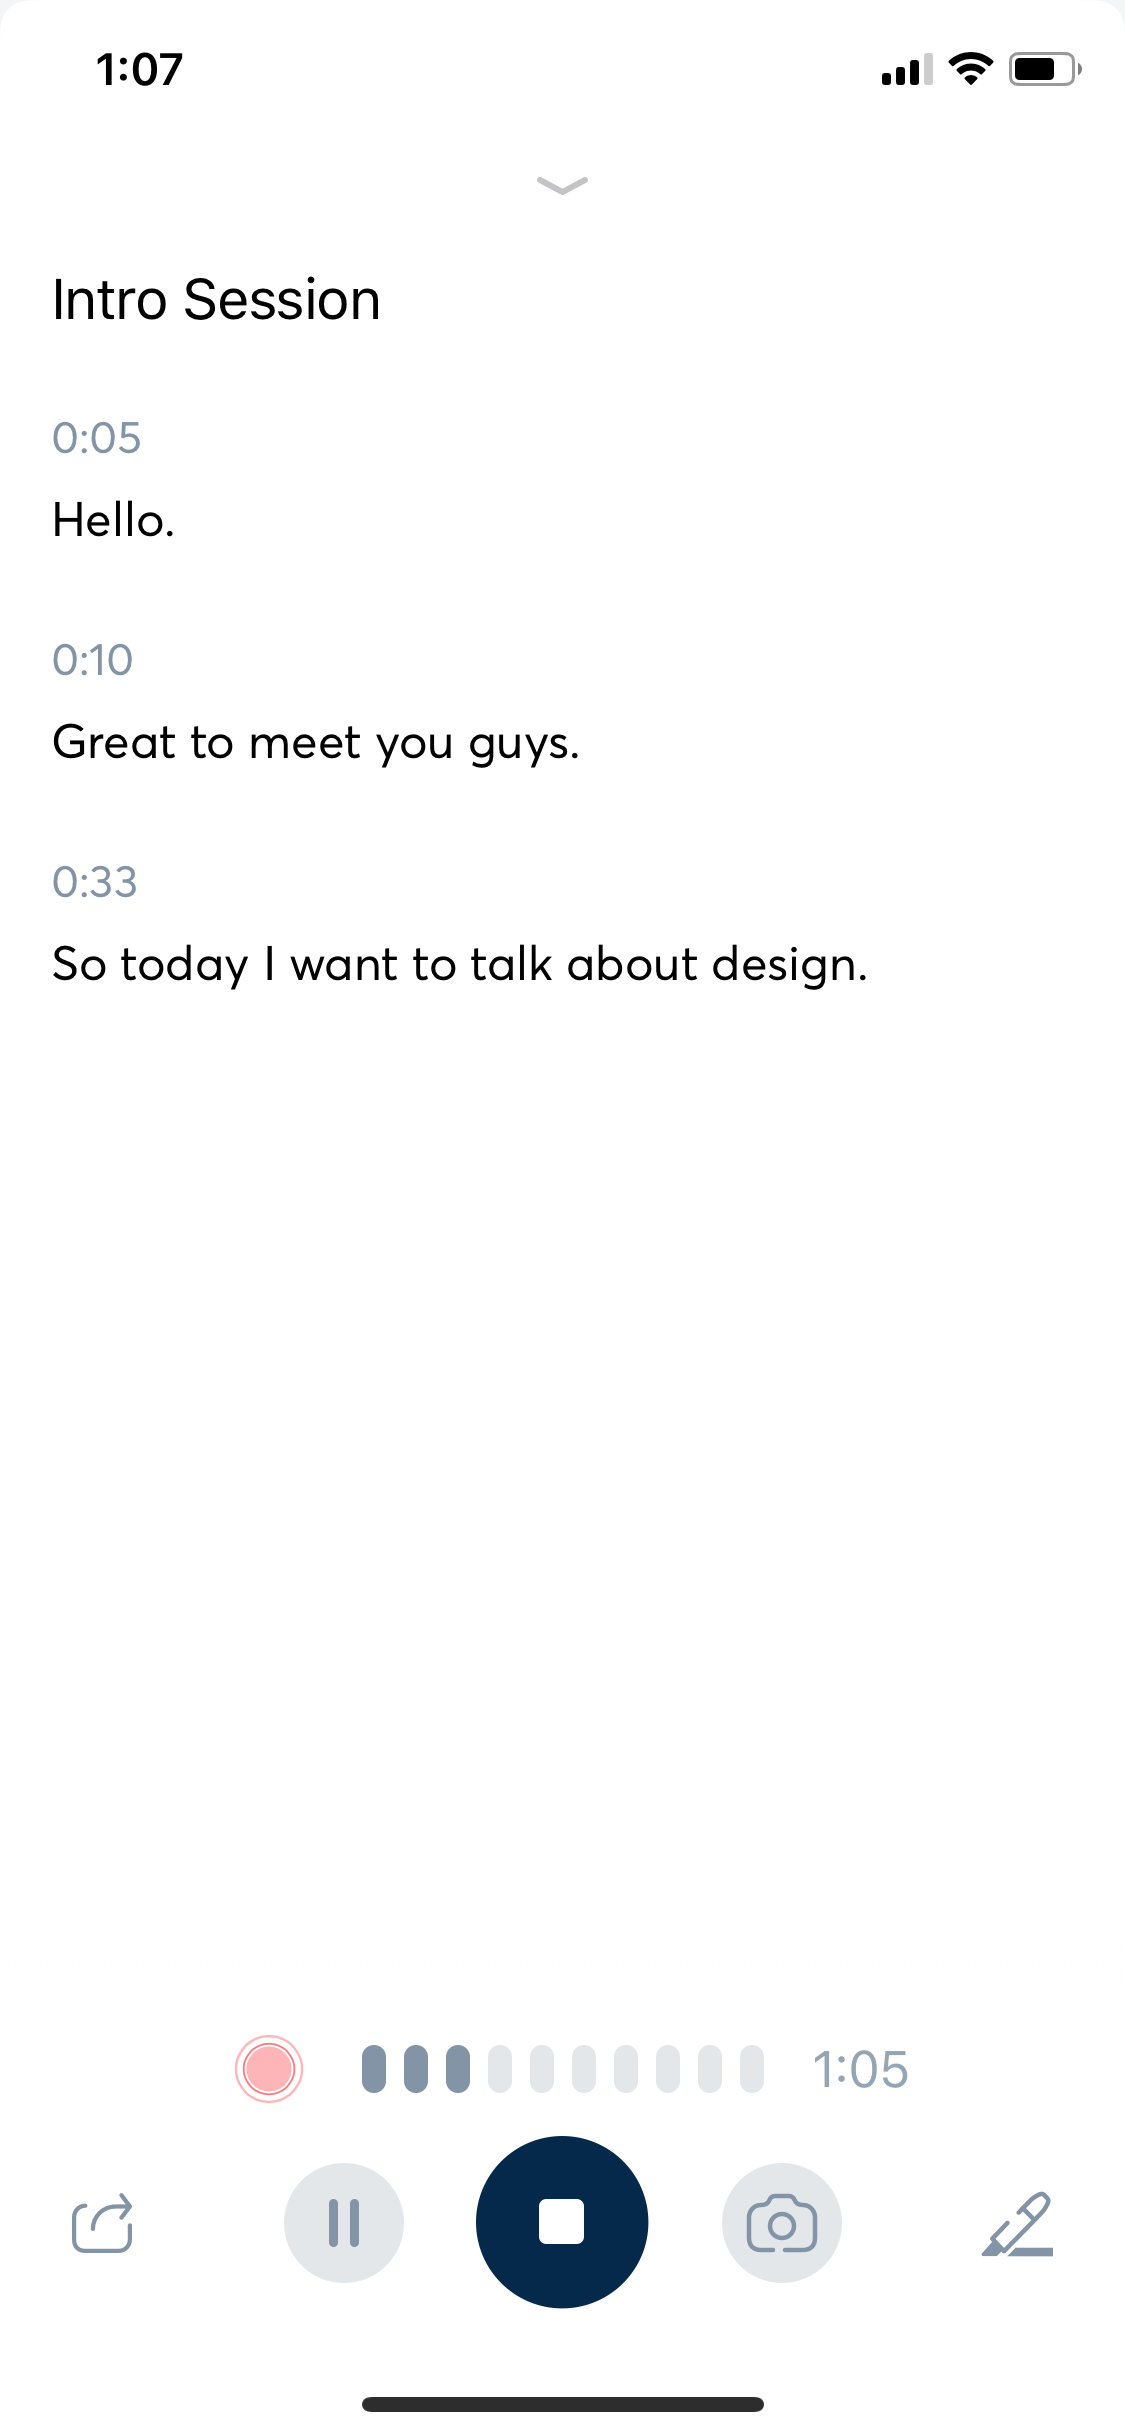Buttons: (469, 2135, 653, 2316), (266, 2156, 426, 2309), (713, 2152, 847, 2292), (953, 2152, 1085, 2288), (51, 2156, 162, 2270)
